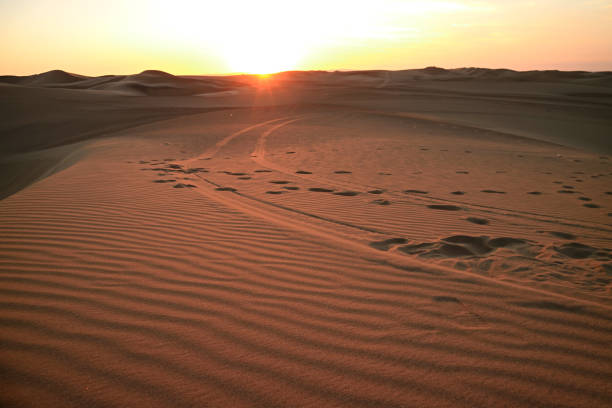human_footprint: (370, 231, 611, 295), (418, 294, 489, 329), (427, 204, 461, 210), (466, 217, 489, 224), (308, 187, 334, 192), (372, 199, 390, 205), (333, 191, 359, 195), (403, 189, 427, 193), (481, 189, 505, 193), (173, 183, 195, 187), (215, 187, 236, 191), (269, 180, 290, 184), (368, 189, 384, 194), (266, 190, 284, 194), (282, 186, 299, 190), (153, 179, 175, 182), (295, 170, 311, 174), (450, 190, 464, 194), (334, 170, 351, 173), (254, 169, 271, 172)
